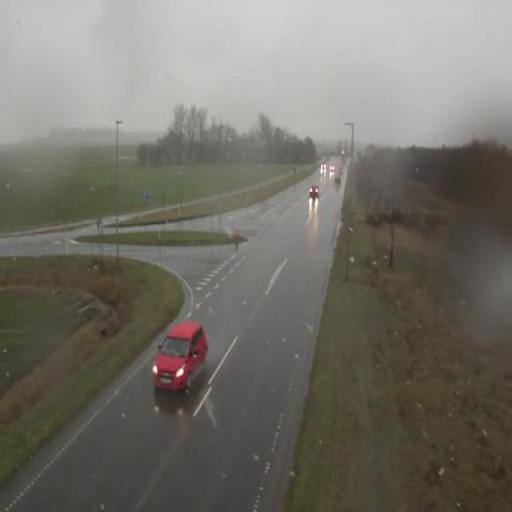小汽车: (150, 322, 209, 393), (307, 185, 321, 198)
